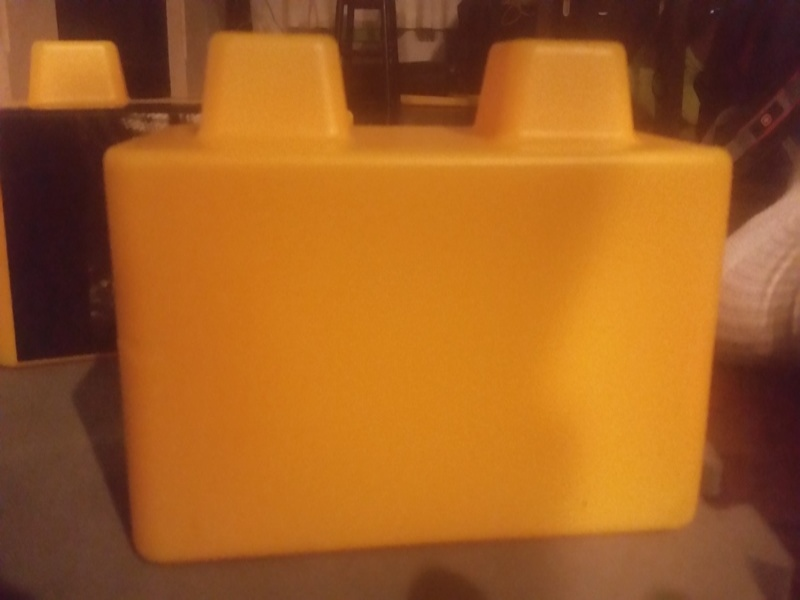Stone: (100, 28, 717, 554)
